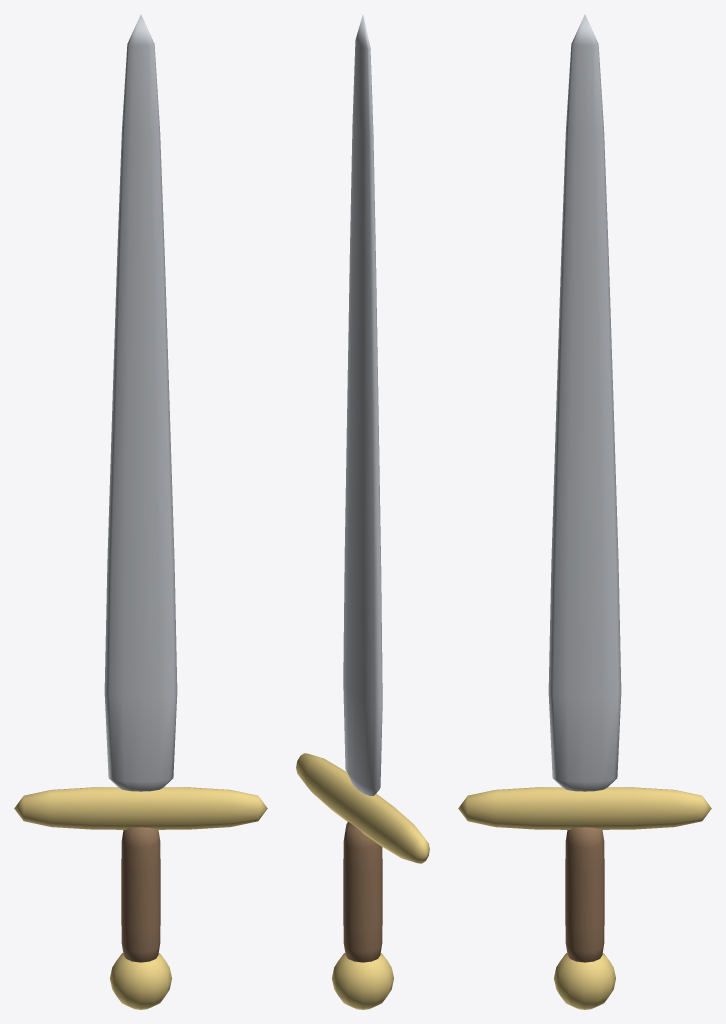
File: sword.glb
3 views of the same model, side by side, from view 1: azimuth 90°, elevation 25°; view 2: azimuth 210°, elevation 25°; view 3: azimuth 270°, elevation 25° (orthographic).
Visible parts, largest first — view 1: sword; view 2: sword; view 3: sword.
Boxes of the visible parts, left/top/right/bottom form: sword: left=14, top=14, right=267, bottom=1009; sword: left=296, top=15, right=429, bottom=1009; sword: left=458, top=14, right=711, bottom=1009.
Size of the model in its own units: 0.054 by 0.95 by 0.22.
